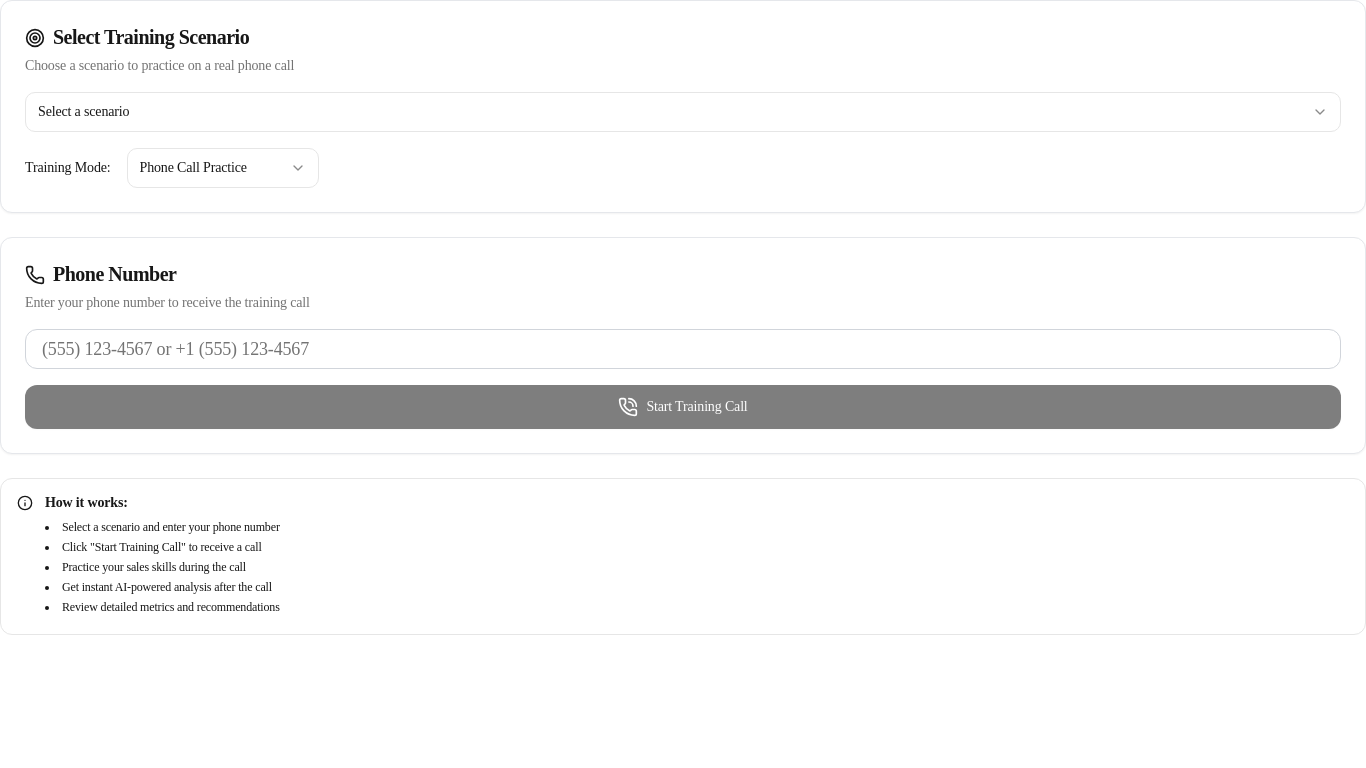
Test: PhoneCallTraining › should format phone number input
Type "15551234567" into the field with placeholder "(555) 123-4567 or +1 (555) 123-4567" at (683, 349), box [25,329,1341,369]
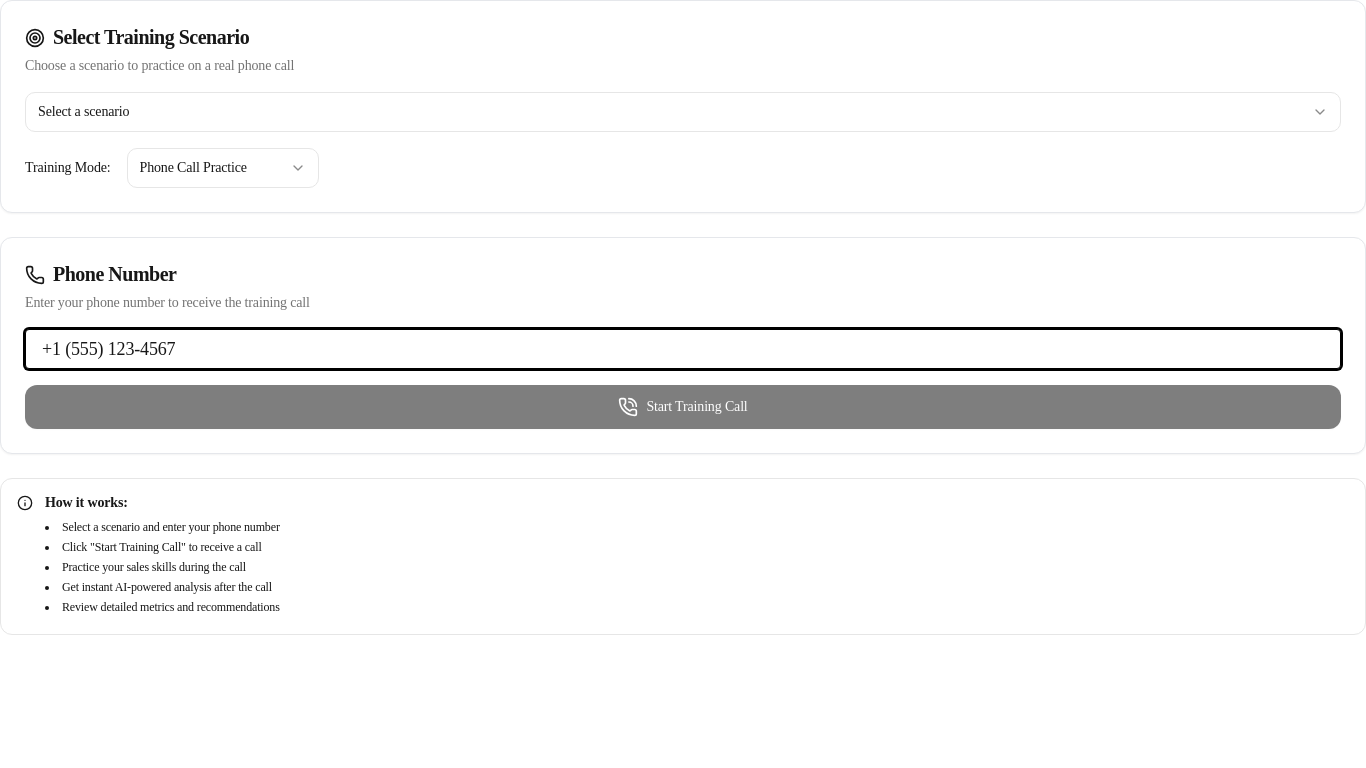
Expected: the field with placeholder "(555) 123-4567 or +1 (555) 123-4567" holds "+1 (555) 123-4567", [25,329,1341,369]
